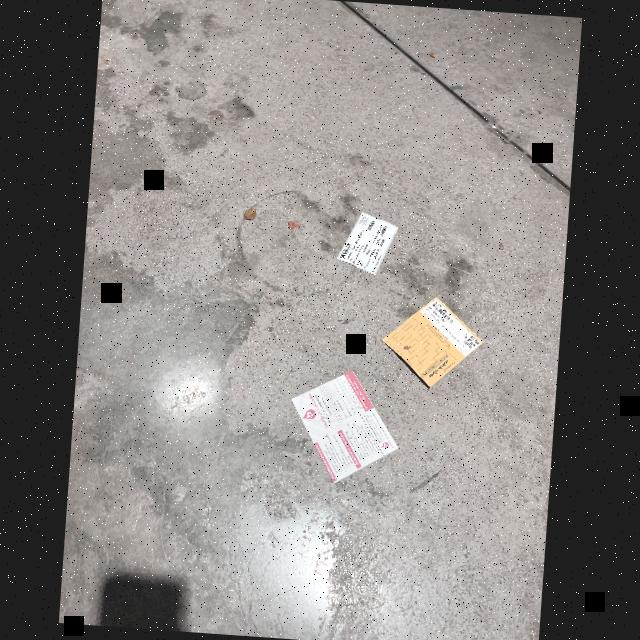scrap_paper: (284, 370, 402, 484), (374, 292, 492, 398), (334, 200, 407, 282)
